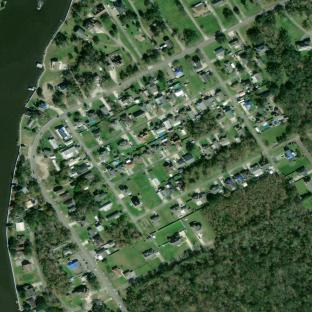Floresta: (124, 175, 312, 312), (255, 11, 312, 133), (25, 204, 69, 294), (52, 90, 64, 104)
